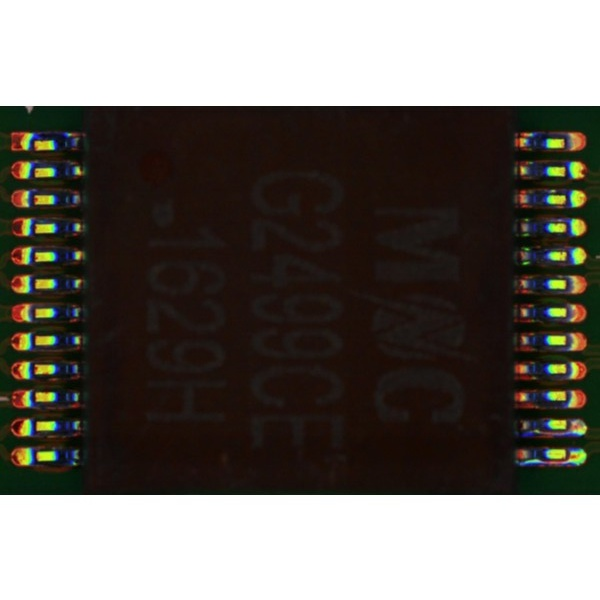Bad_podu: (561, 420, 578, 429), (560, 451, 578, 459)
Bad_qiaojiao: (514, 458, 568, 464), (521, 429, 568, 435)
